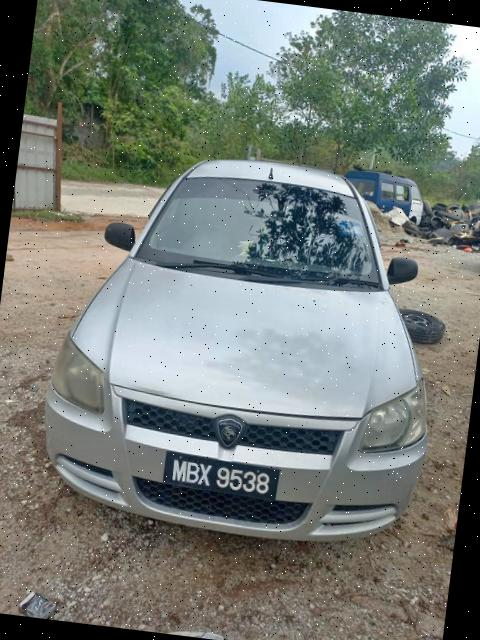License_Plate: (160, 448, 287, 506)
car: (25, 120, 463, 558)
